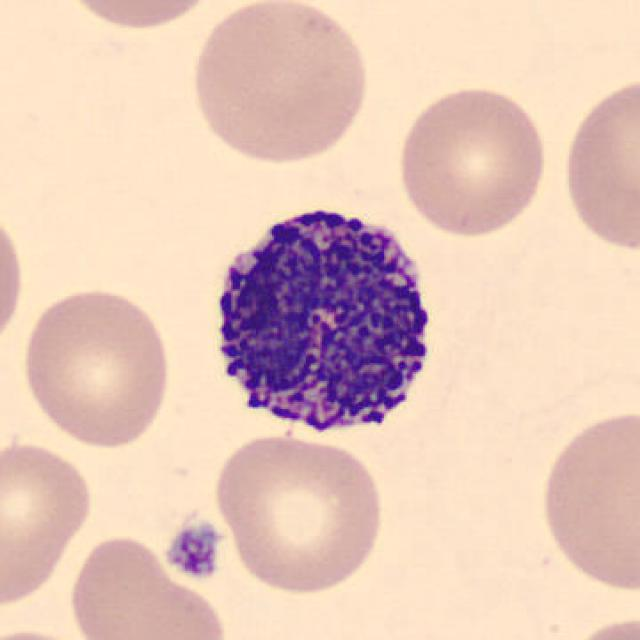Basophil: (194, 189, 450, 453)
Platelets: (162, 518, 226, 584)
RBC: (183, 0, 375, 167), (208, 428, 389, 596), (18, 282, 176, 451), (391, 81, 551, 240), (534, 400, 638, 598), (64, 530, 231, 640), (0, 435, 96, 612), (556, 65, 638, 261), (53, 0, 227, 33), (0, 199, 28, 357), (560, 612, 638, 640), (0, 626, 105, 640)
